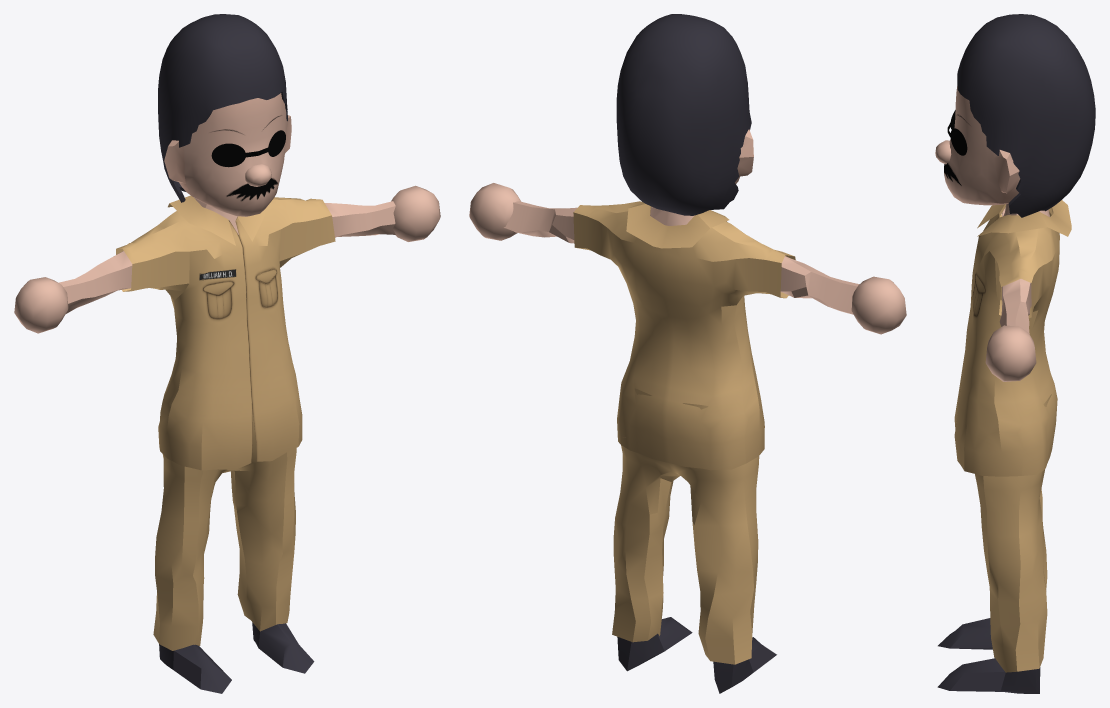
The model's file is William Helmansyah Daussufyan TEXTURING.fbx.
3 views of the same model, side by side, from view 1: azimuth 30°, elevation 25°; view 2: azimuth 150°, elevation 25°; view 3: azimuth 270°, elevation 25° (orthographic). The views are drawn at different scales.
Parts seen in each view (by area): view 1: Cube.000, Cube.003, Cube.004, Cube.001, Cube.002, Sphere, Cube.005, Circle; view 2: Cube.000, Cube.004, Cube.003, Cube.002, Sphere, Cube.005; view 3: Cube.000, Cube.004, Cube.003, Cube.001, Cube.005, Sphere, Cube.002, Circle, Sphere.001.
Part boxes in pixels (x1=…): Cube.000: x1=116, y1=195, x2=335, y2=470; Cube.003: x1=153, y1=415, x2=296, y2=650; Cube.004: x1=158, y1=14, x2=287, y2=202; Cube.001: x1=164, y1=93, x2=291, y2=216; Cube.002: x1=58, y1=198, x2=395, y2=313; Sphere: x1=14, y1=185, x2=440, y2=333; Cube.005: x1=159, y1=622, x2=314, y2=693; Circle: x1=211, y1=130, x2=285, y2=167; Cube.000: x1=573, y1=201, x2=795, y2=470; Cube.004: x1=616, y1=14, x2=751, y2=215; Cube.003: x1=612, y1=388, x2=759, y2=664; Cube.002: x1=504, y1=201, x2=859, y2=314; Sphere: x1=469, y1=183, x2=906, y2=334; Cube.005: x1=617, y1=617, x2=776, y2=693; Cube.000: x1=954, y1=200, x2=1071, y2=476; Cube.004: x1=957, y1=14, x2=1095, y2=217; Cube.003: x1=975, y1=394, x2=1051, y2=672; Cube.001: x1=944, y1=86, x2=1020, y2=205; Cube.005: x1=937, y1=618, x2=1040, y2=693; Sphere: x1=985, y1=325, x2=1036, y2=381; Cube.002: x1=999, y1=204, x2=1050, y2=333; Circle: x1=947, y1=110, x2=967, y2=155; Sphere.001: x1=935, y1=140, x2=951, y2=164.
Size of the model in its own units: 319 by 463 by 103.
